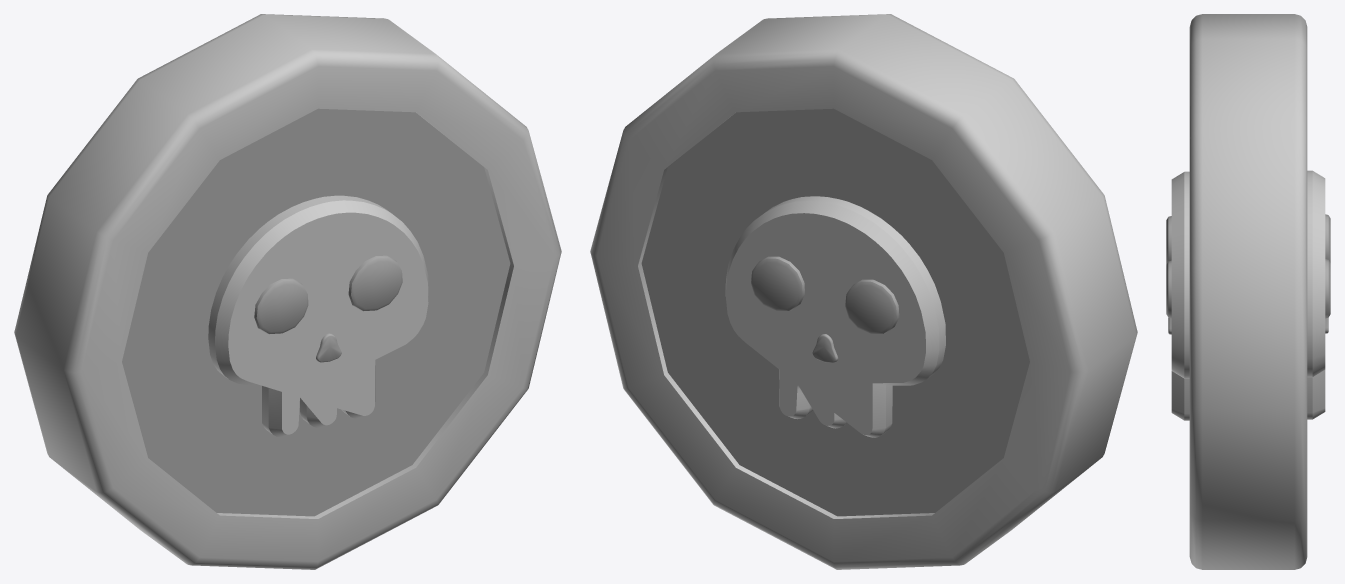
The model's file is Skull Silver.fbx.
The picture shows the model from 3 angles, left to right: view 1: azimuth 30°, elevation 25°; view 2: azimuth 150°, elevation 25°; view 3: azimuth 270°, elevation 25°; orthographic projection. The views are drawn at different scales.
Parts seen in each view (by area): view 1: Skull Silver; view 2: Skull Silver; view 3: Skull Silver.
Boxes of the visible parts, left/top/right/bottom form: Skull Silver: left=14, top=14, right=561, bottom=569; Skull Silver: left=590, top=14, right=1137, bottom=569; Skull Silver: left=1166, top=14, right=1330, bottom=569.
Size of the model in its own units: 0.2371 by 0.2371 by 0.0697.
